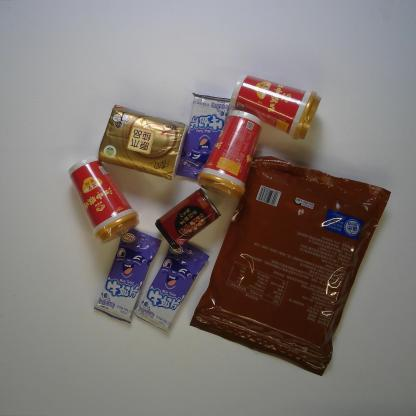Candy: (132, 242, 210, 334), (92, 228, 164, 324), (173, 92, 231, 179)
Canned Food: (154, 186, 223, 250)
Dried Food: (186, 156, 393, 380)
Instant Drink: (226, 72, 323, 142), (68, 156, 139, 248), (197, 107, 264, 199)
Tissue: (96, 103, 188, 182)
